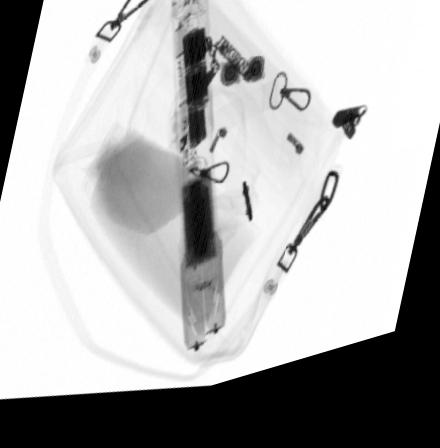Baton: (169, 0, 226, 366)
